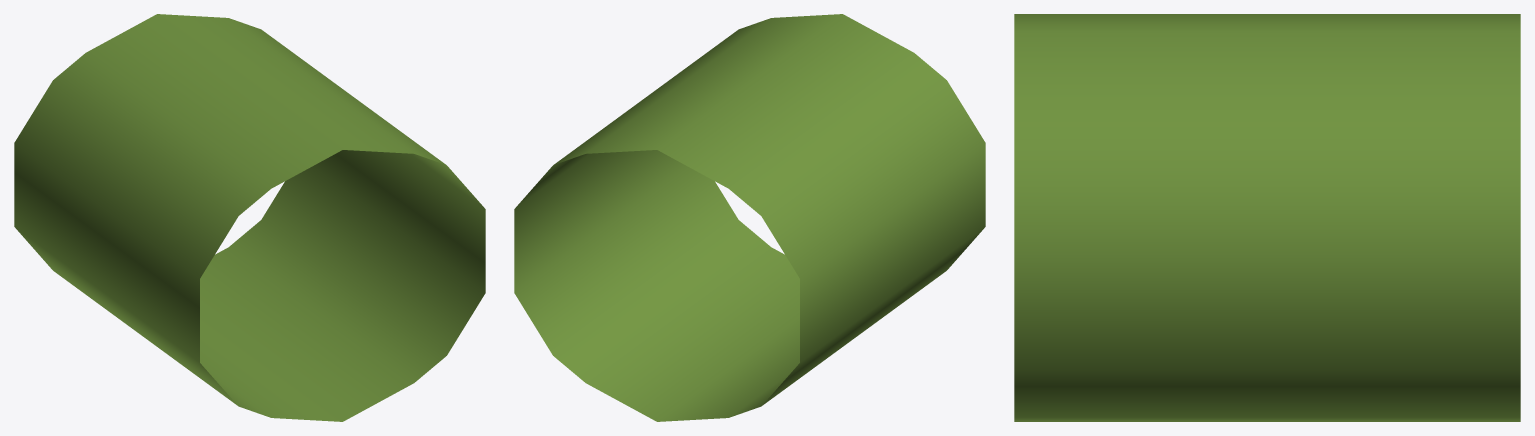
The model's file is body_low.fbx.
3 renders of one model, left to right at view 1: azimuth 30°, elevation 25°; view 2: azimuth 150°, elevation 25°; view 3: azimuth 270°, elevation 25°, orthographic. The views are drawn at different scales.
Parts seen in each view (by area): view 1: body; view 2: body; view 3: body.
Boxes of the visible parts, <box> form: body: <box>14,14,485,421</box>; body: <box>514,14,985,421</box>; body: <box>1014,14,1520,421</box>.
Bounding box in the file's own units: 88.88 × 80.86 × 100.
Materials: 1 (1 with a texture image).
